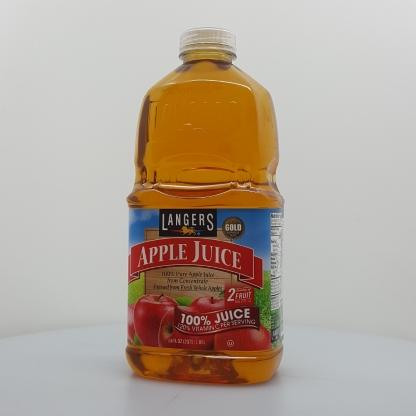-------------: (125, 27, 285, 385)
